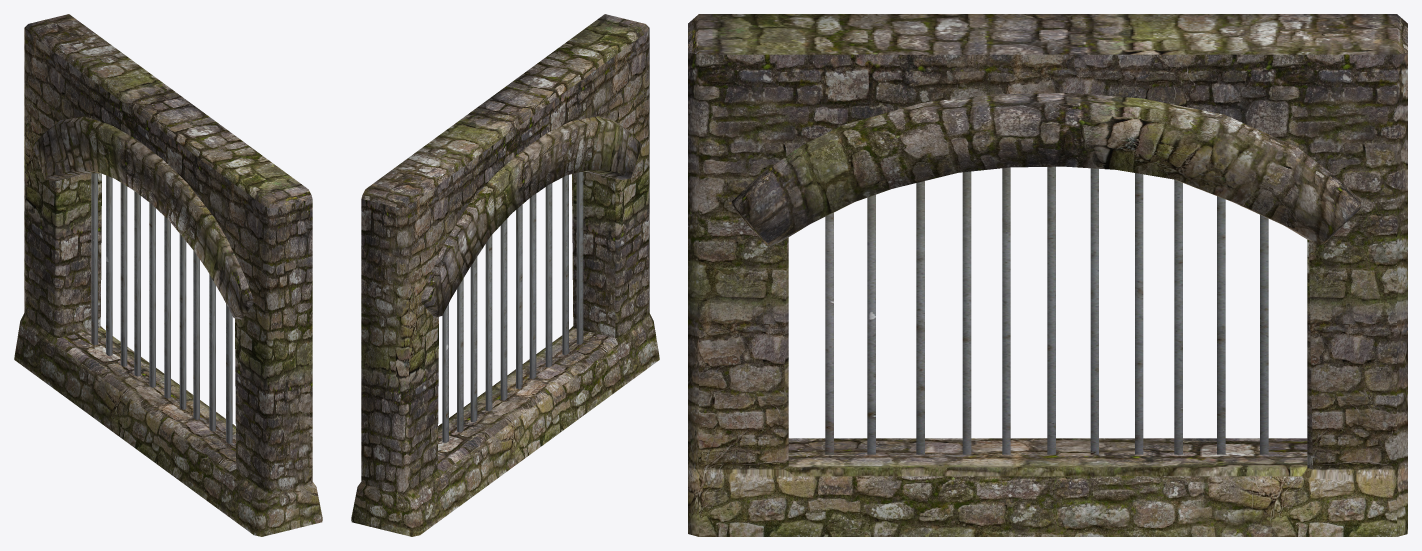
The model's file is Tunnel_Wall_Opening.FBX.
3 views of the same model, side by side, from view 1: azimuth 30°, elevation 25°; view 2: azimuth 150°, elevation 25°; view 3: azimuth 270°, elevation 25° (orthographic). The views are drawn at different scales.
Visible parts, largest first — view 1: Tunnel_Wall_Opening, Bars; view 2: Tunnel_Wall_Opening, Bars; view 3: Tunnel_Wall_Opening, Bars.
Boxes of the visible parts, <box> form: Tunnel_Wall_Opening: <box>14,14,322,536</box>; Bars: <box>91,173,232,443</box>; Tunnel_Wall_Opening: <box>351,14,659,536</box>; Bars: <box>442,172,583,442</box>; Tunnel_Wall_Opening: <box>688,14,1407,536</box>; Bars: <box>825,166,1268,454</box>.
Bounding box in the file's own units: 66.4 × 306 × 413.
